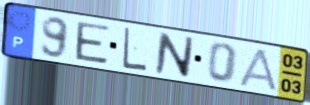0: (206, 40, 239, 85)
9: (39, 15, 71, 60)
A: (237, 46, 279, 93)
E: (74, 20, 112, 67)
L: (121, 25, 149, 73)
N: (153, 30, 196, 80)
